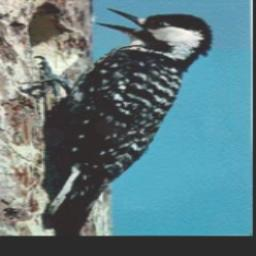Woodpecker: (17, 3, 222, 235)
